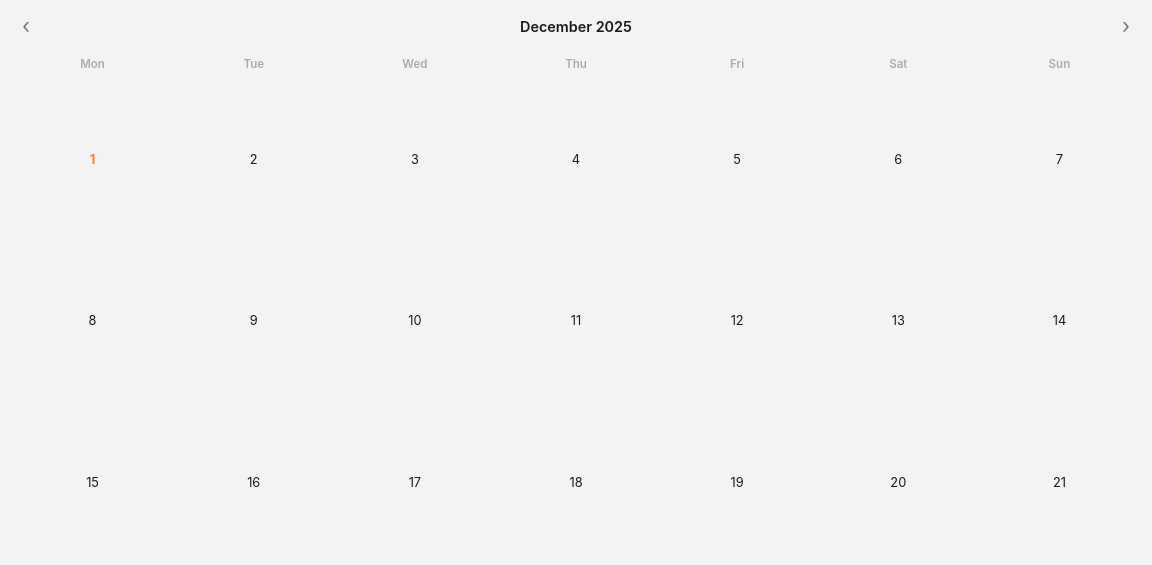
Test: MiniCalendar › wraps from December to January when navigating forward
Click the button named "next month". click: click(1126, 26)
box: [1114, 14, 1138, 39]
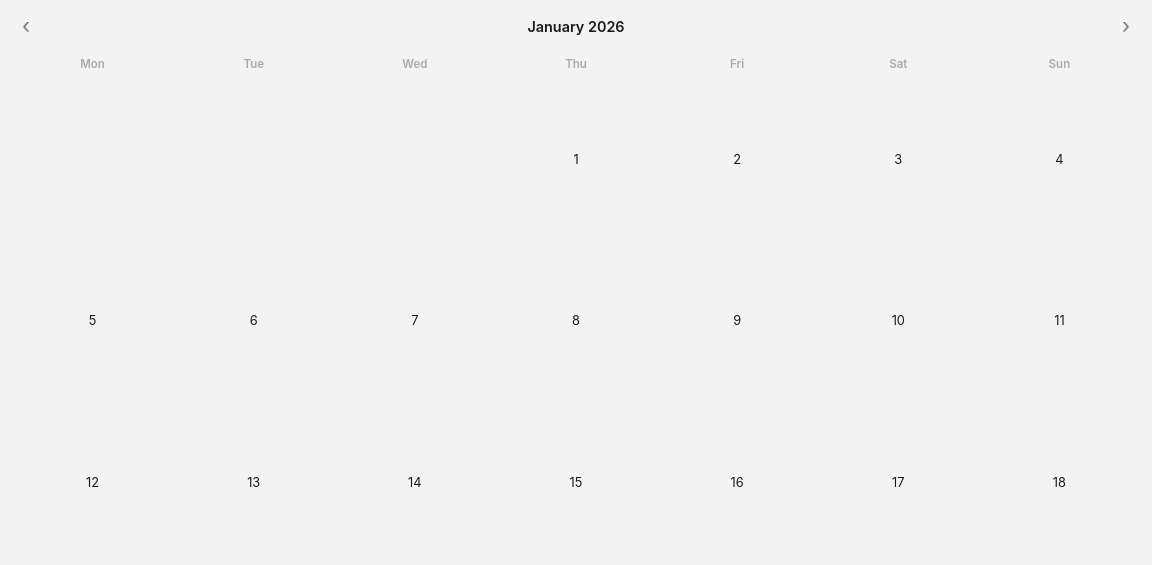
Expected: the text "January 2026" is shown, [527, 15, 625, 38]
